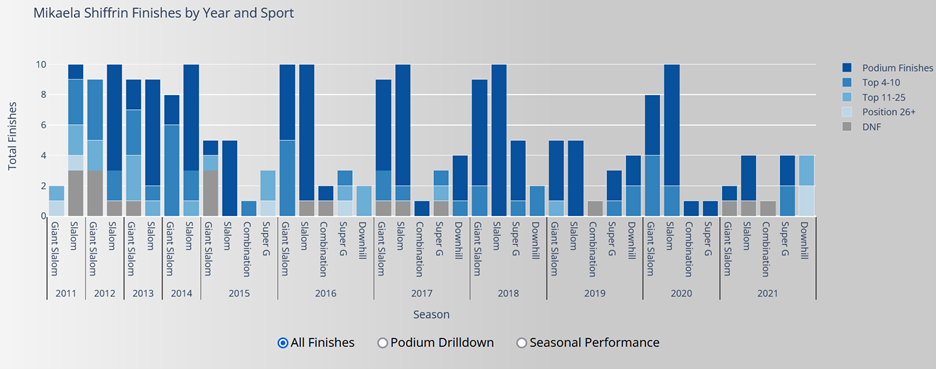

The dashboard page shown, as its layout file describes it:
{"tool":"tableau","page":{"name":"Dashboard 1","canvas":[1000,1000],"units":"permille","ordinal":0},"visuals":[{"type":"worksheet","title":"Sheet 1","mark":"Automatic","box":[2.1,4.2,888.5,991.5]},{"type":"filter","title":"Sheet 1","param":"[federated.146amrn0jlxjl911misc91clc58j].[none:Medal:ok]","box":[890.6,4.2,107.3,47.2]},{"type":"filter","title":"Sheet 1","param":"[federated.146amrn0jlxjl911misc91clc58j].[none:USOC Master Competition Set Name:","box":[890.6,51.4,107.3,150.1]},{"type":"legend","title":"Sheet 1","param":"[federated.146amrn0jlxjl911misc91clc58j].[cnt:Medal:qk]","box":[890.6,201.5,107.3,43]},{"type":"filter","title":"Sheet 1","param":"[federated.146amrn0jlxjl911misc91clc58j].[none:Event Gender:nk]","box":[890.6,244.4,107.3,64.2]},{"type":"filter","title":"Sheet 1","param":"[federated.146amrn0jlxjl911misc91clc58j].[none:Event Name Short:nk]","box":[890.6,308.6,107.3,121.4]}]}

Visuals, with their boxes on the dashboard's canvas, which has no fixed pixel size, in thousandths of its width and height (x1, y1, x2, y2). These are canvas units, not pixel positions in the 936x369 screenshot, which may show the page scaled, cropped or inside an application window:
"Sheet 1" worksheet: [left=2, top=4, right=891, bottom=996]
"Sheet 1" filter: [left=891, top=4, right=998, bottom=51]
"Sheet 1" filter: [left=891, top=51, right=998, bottom=202]
"Sheet 1" legend: [left=891, top=202, right=998, bottom=244]
"Sheet 1" filter: [left=891, top=244, right=998, bottom=309]
"Sheet 1" filter: [left=891, top=309, right=998, bottom=430]
